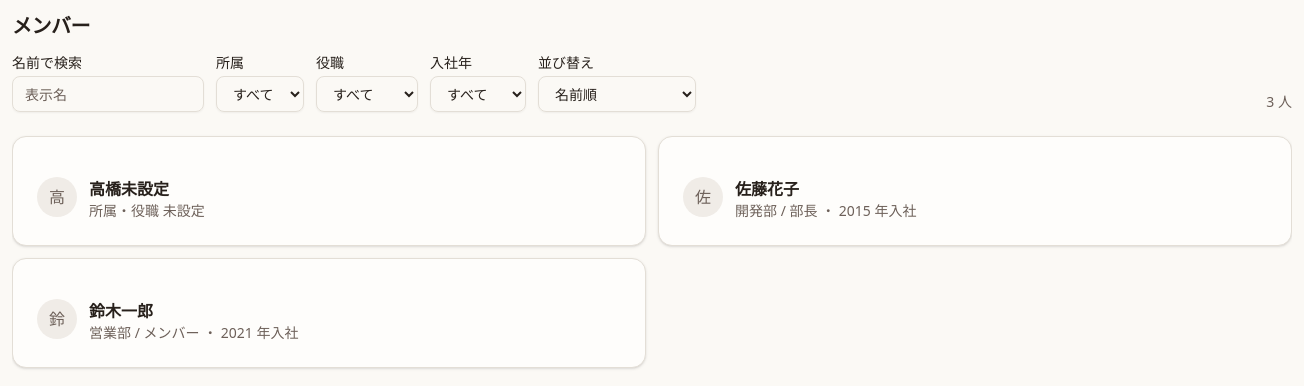
Scenario: ProfilesPage › 役職順の並び替えは sortOrder 順、未設定は末尾
This screenshot has width=1304, height=386.
Expected: the heading "佐藤花子" is shown, [735,178,799,200]
Select "役職順" in the dropdown labelled "並び替え": (617, 94) [538,76,696,112]
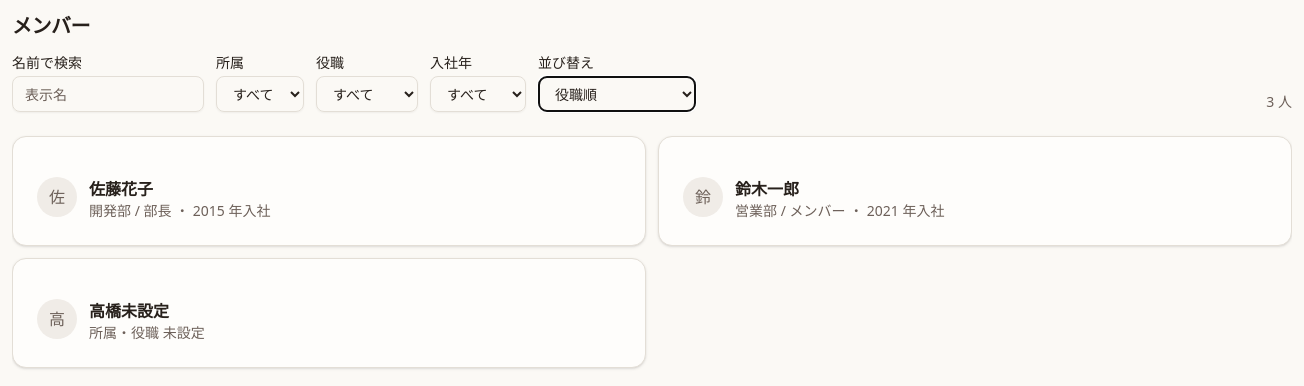
Now the headings read "佐藤花子", "鈴木一郎", "高橋未設定", in this order, box [89,178,153,200]; [735,178,799,200]; [89,300,169,322]
